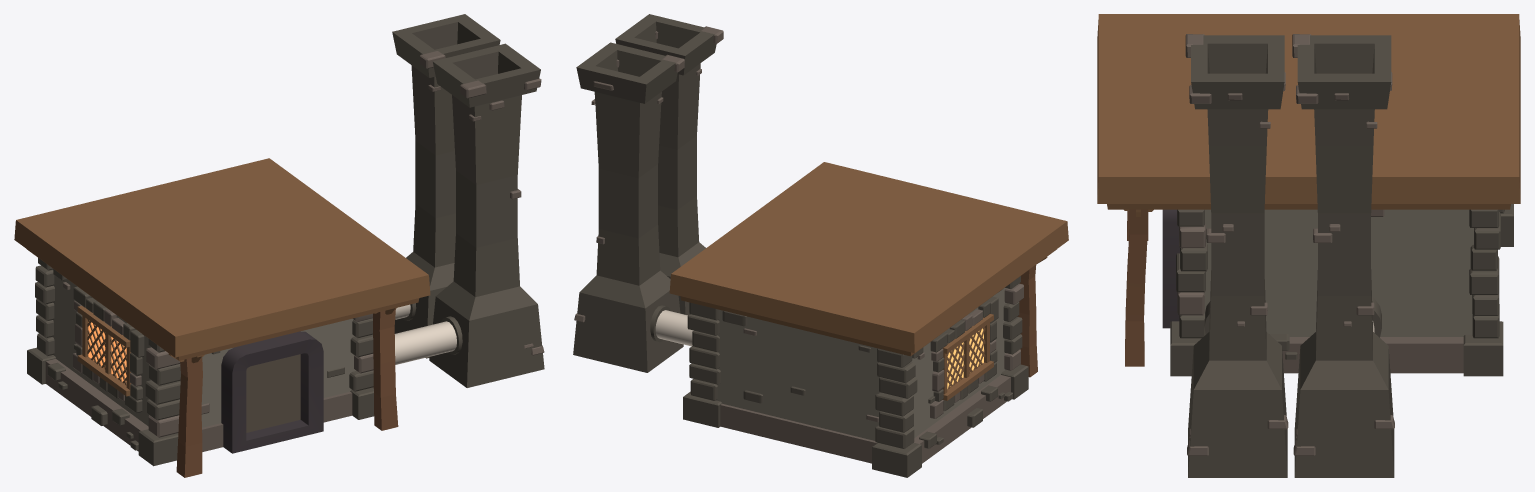
File: Processing Unit.fbx
The picture shows the model from 3 angles, left to right: view 1: azimuth 30°, elevation 25°; view 2: azimuth 150°, elevation 25°; view 3: azimuth 270°, elevation 25°; orthographic projection. The views are drawn at different scales.
Parts seen in each view (by area): view 1: Station; view 2: Station; view 3: Station.
Part boxes in pixels (x1,y1,x2,y2): Station: (14, 14, 544, 477); Station: (573, 14, 1068, 477); Station: (1097, 14, 1520, 477).
Bounding box in the file's own units: 659 × 467 × 454.
